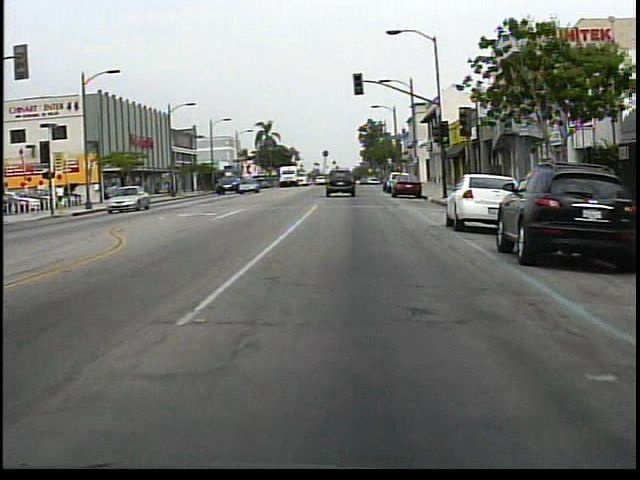person: (57, 182, 69, 211)
